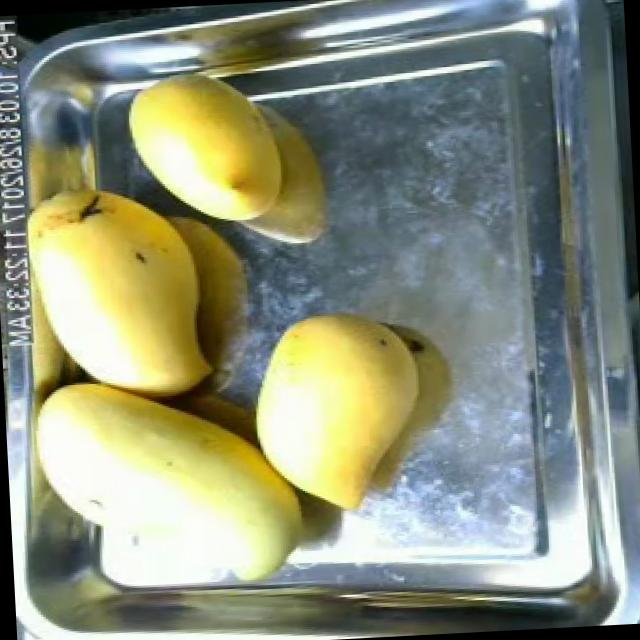fruit: (19, 357, 320, 546), (27, 171, 235, 421), (240, 294, 439, 524), (109, 71, 303, 243)
